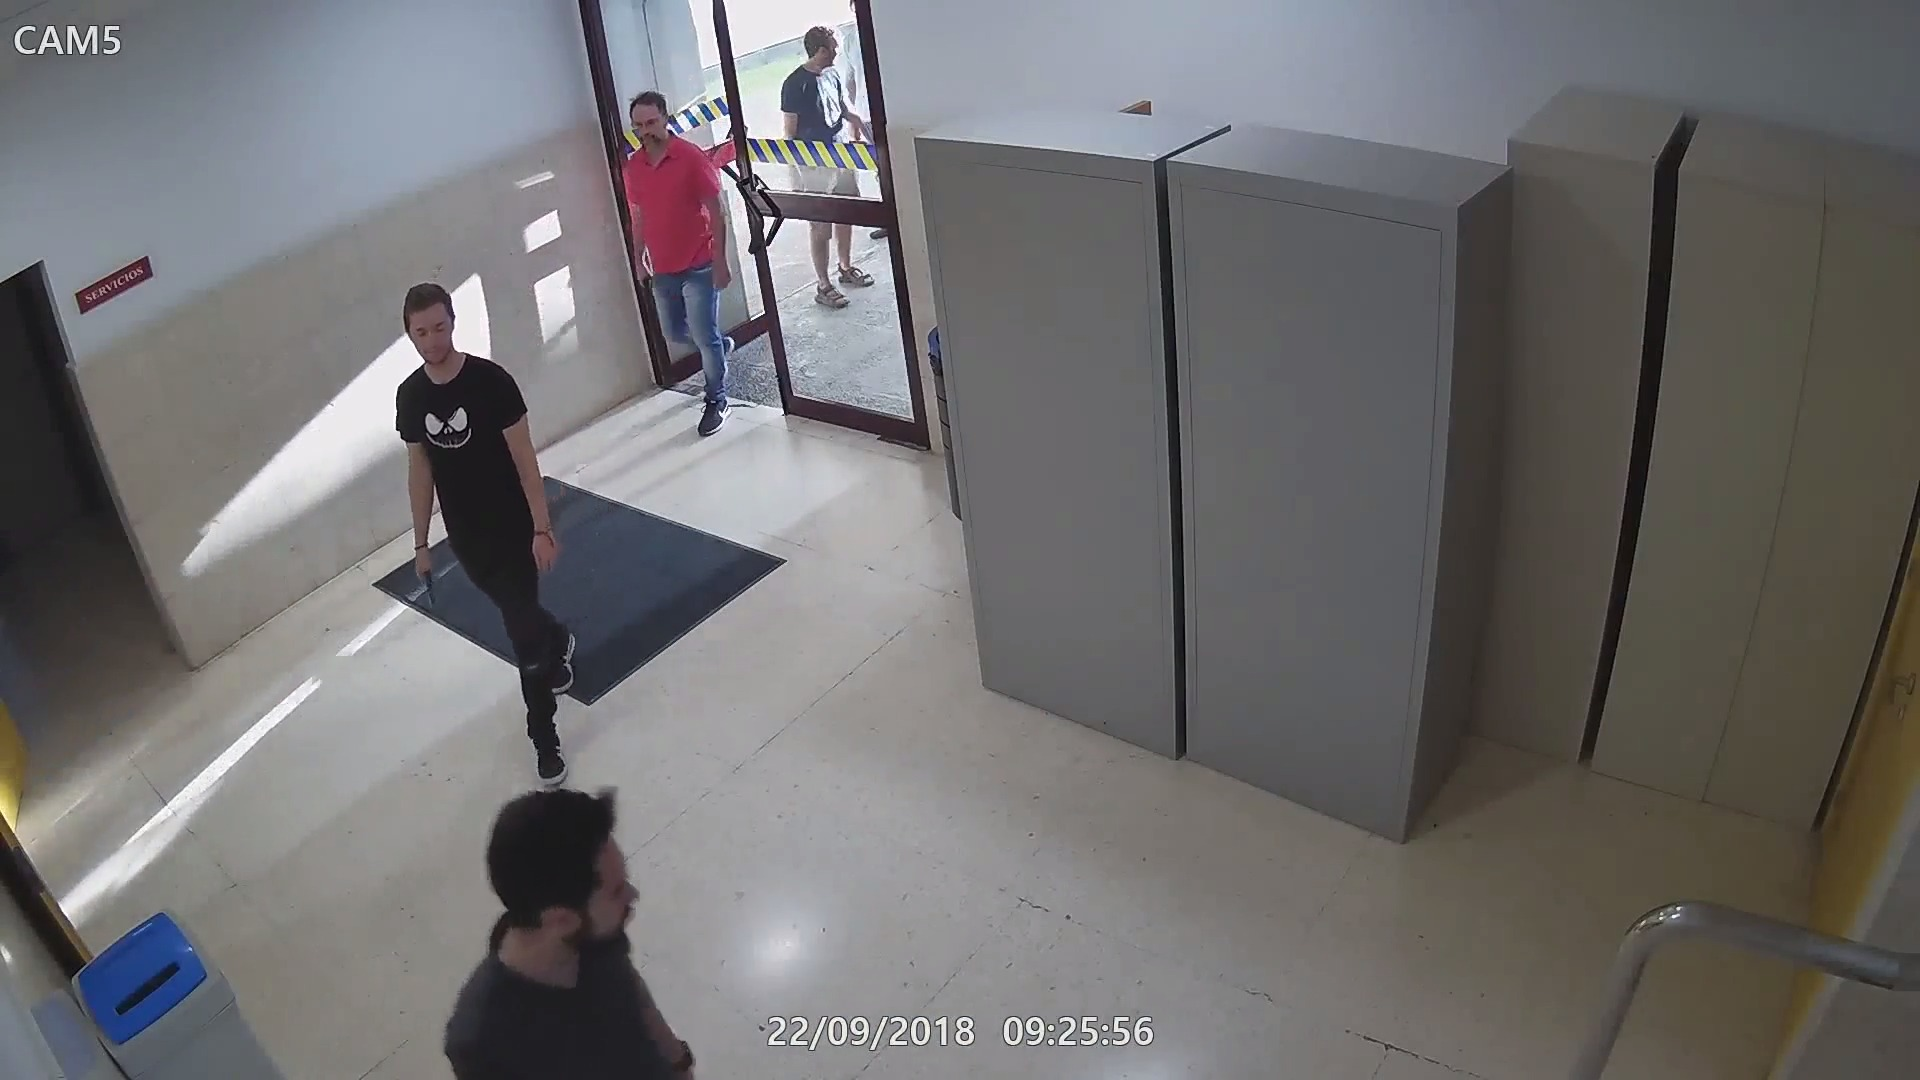Handgun: (409, 545, 440, 613), (629, 261, 655, 314)
